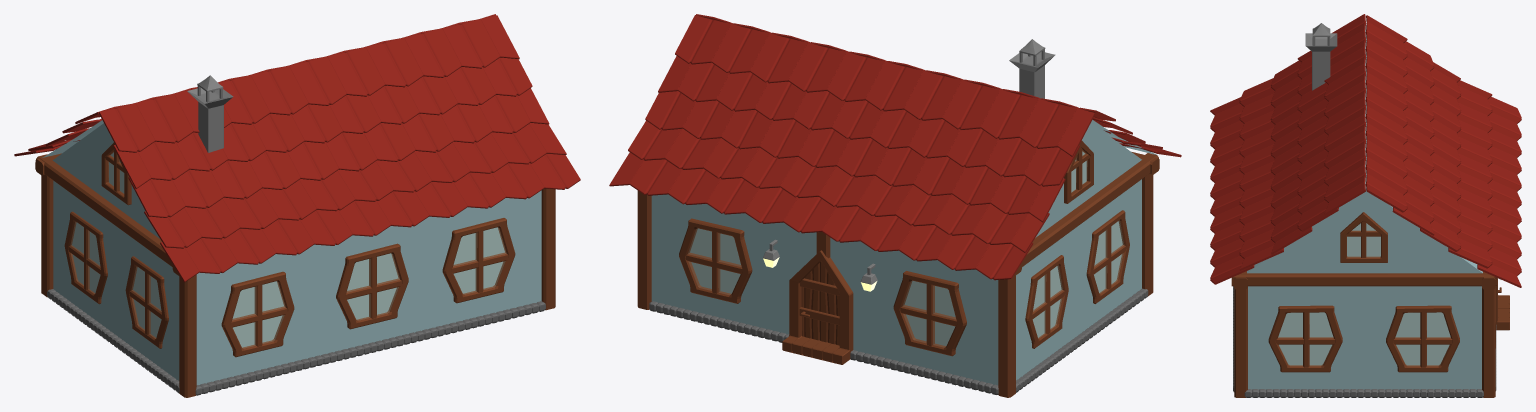
Rendered from tawerna.fbx.
3 views of the same model, side by side, from view 1: azimuth 30°, elevation 25°; view 2: azimuth 150°, elevation 25°; view 3: azimuth 270°, elevation 25° (orthographic). The views are drawn at different scales.
Visible parts, largest first — view 1: Dach.01, Podstawy, Okno_v1.02, Okno_v1.03, Okno_v1.04, Kamienie.02, Okno_v1.08, Okno_v1.07, Kolumna.07, Kolumna.03, Komin, Kolumna.00 (+4 smaller); view 2: Dach.00, Podstawy, Drzwi, Okno_v1.00, Okno_v1.01, Okno_v1.08, Okno_v1.07, Kolumna.07, Kolumna.02, Dach.01, Kolumna.01, Kamienie.04 (+5 smaller); view 3: Podstawy, Dach.00, Dach.01, Okno_v1.05, Okno_v1.06, Kolumna.08, Kamienie.03, Okno_v2.00, Kolumna.01, Kolumna.00, Komin, Drzwi.
Boxes of the visible parts, <box> form: Dach.01: <box>98,15,580,282</box>; Podstawy: <box>42,120,541,384</box>; Okno_v1.02: <box>221,271,294,357</box>; Okno_v1.03: <box>336,243,408,329</box>; Okno_v1.04: <box>442,218,515,303</box>; Kamienie.02: <box>195,301,545,395</box>; Okno_v1.08: <box>125,256,168,348</box>; Okno_v1.07: <box>64,211,107,304</box>; Kolumna.07: <box>36,154,172,266</box>; Kolumna.03: <box>179,274,196,397</box>; Komin: <box>187,75,233,152</box>; Kolumna.00: <box>541,188,555,310</box>; Dach.00: <box>609,15,1095,280</box>; Podstawy: <box>651,120,1157,385</box>; Drzwi: <box>782,250,853,364</box>; Okno_v1.00: <box>679,218,752,303</box>; Okno_v1.01: <box>893,271,966,356</box>; Okno_v1.08: <box>1086,210,1129,303</box>; Okno_v1.07: <box>1025,255,1068,348</box>; Kolumna.07: <box>1022,153,1158,266</box>; Kolumna.02: <box>998,275,1015,397</box>; Dach.01: <box>696,14,1181,157</box>; Kolumna.01: <box>637,190,651,309</box>; Kamienie.04: <box>1016,288,1148,392</box>; Podstawy: <box>1247,25,1500,389</box>; Dach.00: <box>1365,15,1521,287</box>; Dach.01: <box>1210,14,1366,284</box>; Okno_v1.05: <box>1268,305,1342,372</box>; Okno_v1.06: <box>1386,305,1459,372</box>; Kolumna.08: <box>1231,271,1496,286</box>; Kamienie.03: <box>1244,389,1483,397</box>; Okno_v2.00: <box>1340,212,1387,262</box>; Kolumna.01: <box>1482,288,1495,397</box>; Kolumna.00: <box>1234,286,1247,397</box>; Komin: <box>1305,23,1337,90</box>; Drzwi: <box>1496,278,1509,330</box>.
Size of the model in its own units: 1320 by 855 by 990.
